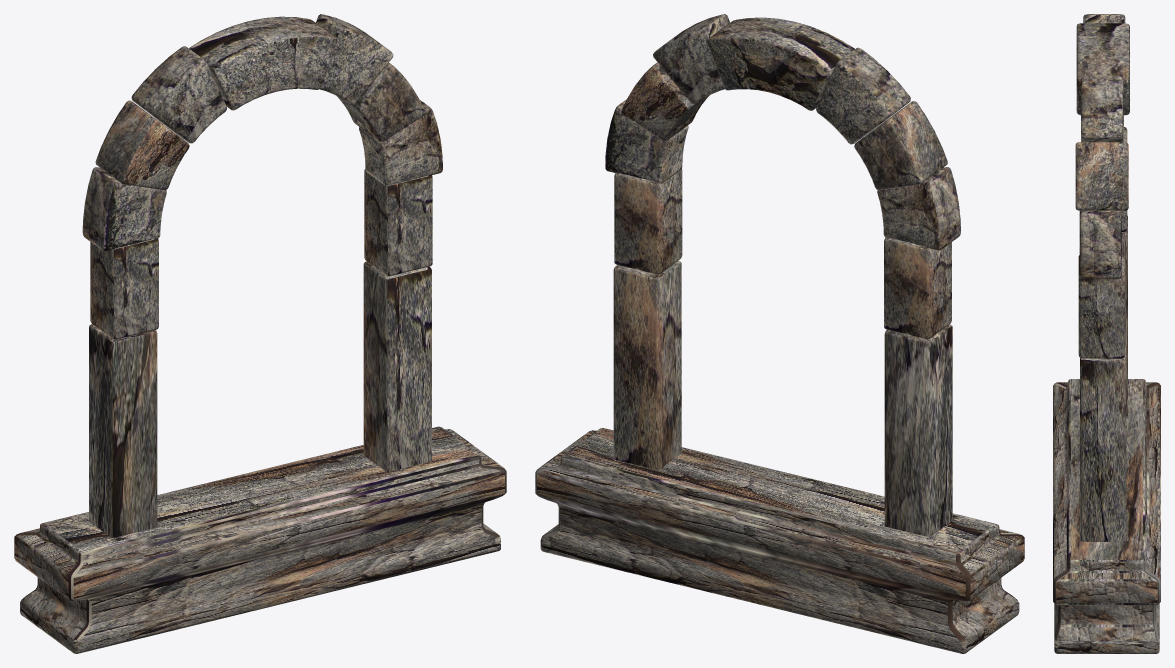
Rendered from portal.glb.
3 views of the same model, side by side, from view 1: azimuth 30°, elevation 25°; view 2: azimuth 150°, elevation 25°; view 3: azimuth 270°, elevation 25° (orthographic). The views are drawn at different scales.
Parts seen in each view (by area): view 1: Portale_0; view 2: Portale_0; view 3: Portale_0.
Part boxes in pixels (x1=…): Portale_0: x1=14, y1=14, x2=506, y2=653; Portale_0: x1=535, y1=14, x2=1024, y2=653; Portale_0: x1=1053, y1=14, x2=1160, y2=653.
Bounding box in the file's own units: 3.21 × 3.89 × 0.7329.
Materials: 1 (1 with a texture image).
